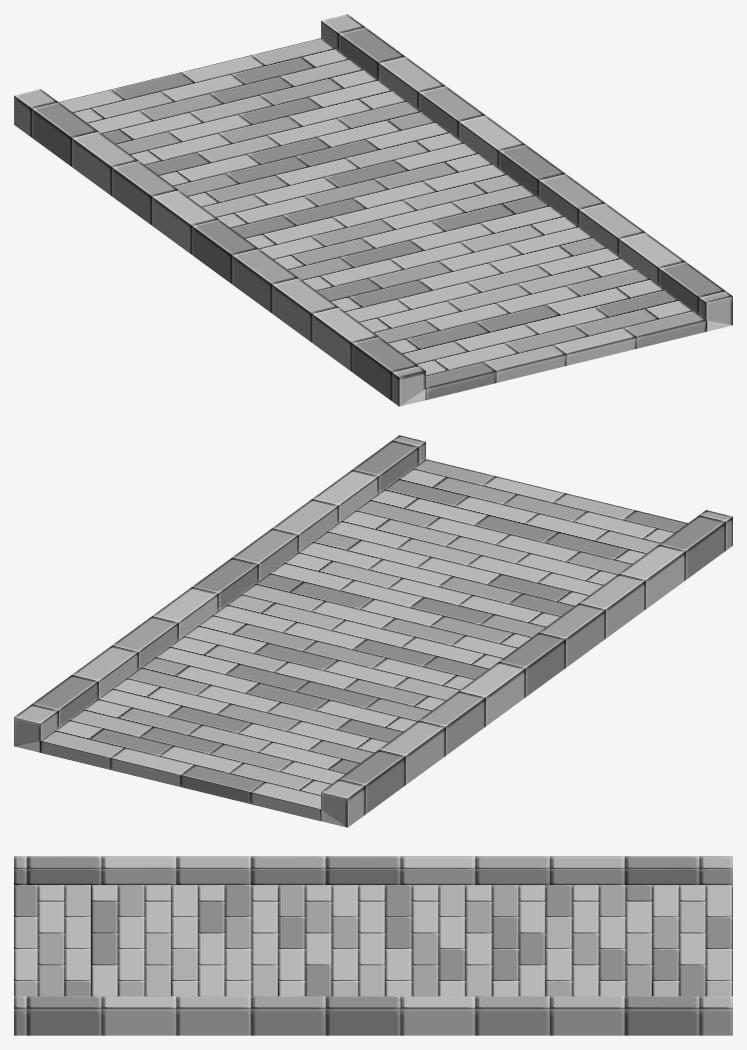
File: Stone Path.fbx
3 views of the same model, one above another, from view 1: azimuth 30°, elevation 25°; view 2: azimuth 150°, elevation 25°; view 3: azimuth 270°, elevation 25° (orthographic). The views are drawn at different scales.
Visible parts, largest first — view 1: Stone_Path; view 2: Stone_Path; view 3: Stone_Path.
Part boxes in pixels (x1,y1,x2,y2): Stone_Path: (14,14,732,406); Stone_Path: (14,435,732,827); Stone_Path: (14,856,732,1035).
Bounding box in the file's own units: 3 × 0.2502 × 6.
